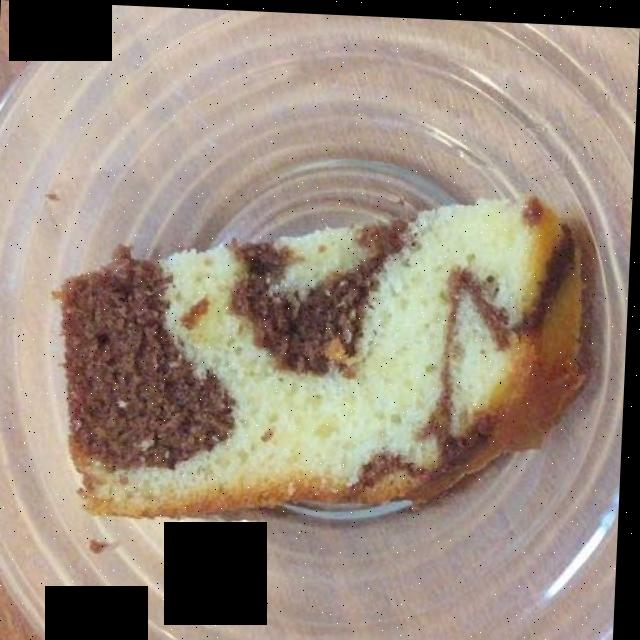cake-marble: (60, 195, 574, 514)
